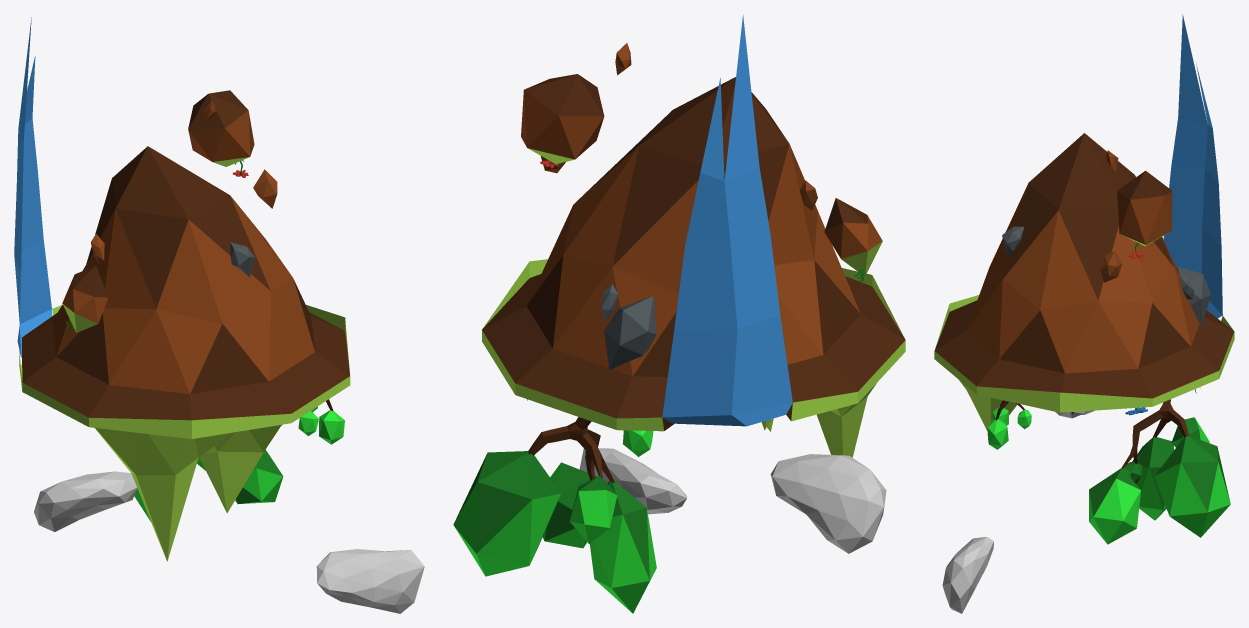
Rendered from island5.obj.
3 views of the same model, side by side, from view 1: azimuth 30°, elevation 25°; view 2: azimuth 150°, elevation 25°; view 3: azimuth 270°, elevation 25° (orthographic). The views are drawn at different scales.
Parts seen in each view (by area): view 1: Icosphere, Icosphere.016, Icosphere.013, Icosphere.003, Icosphere.030, Icosphere.057, Icosphere.012, Icosphere.017, Icosphere.056, Icosphere.001, Icosphere.004, Icosphere.014 (+7 smaller); view 2: Icosphere.030, Icosphere, Icosphere.016, Icosphere.013, Icosphere.056, Icosphere.012, Icosphere.025, Icosphere.017, Icosphere.022, Icosphere.023, Icosphere.004, Icosphere.057 (+10 smaller); view 3: Icosphere, Icosphere.016, Icosphere.030, Icosphere.013, Icosphere.012, Icosphere.017, Icosphere.022, Icosphere.057, Icosphere.004, Icosphere.020, Icosphere.025, Cube (+9 smaller).
Boxes of the visible parts, box(x1,y1,x2,y2) form: Icosphere: box(52, 196, 314, 394); Icosphere.016: box(22, 312, 349, 420); Icosphere.013: box(86, 146, 270, 308); Icosphere.003: box(95, 428, 232, 561); Icosphere.030: box(14, 17, 52, 357); Icosphere.057: box(316, 549, 424, 613); Icosphere.012: box(19, 305, 350, 438); Icosphere.017: box(56, 279, 314, 393); Icosphere.056: box(34, 471, 137, 531); Icosphere.001: box(199, 424, 282, 513); Icosphere.004: box(188, 110, 254, 161); Icosphere.014: box(188, 90, 248, 129); Icosphere.030: box(662, 15, 792, 426); Icosphere: box(527, 144, 860, 375); Icosphere.016: box(482, 274, 905, 418); Icosphere.013: box(577, 77, 789, 265); Icosphere.056: box(770, 454, 886, 553); Icosphere.012: box(482, 259, 905, 431); Icosphere.025: box(454, 451, 560, 557); Icosphere.017: box(526, 255, 860, 376); Icosphere.022: box(453, 483, 560, 576); Icosphere.023: box(590, 510, 656, 613); Icosphere.004: box(521, 90, 603, 159); Icosphere.057: box(579, 448, 686, 514); Icosphere: box(966, 184, 1199, 373); Icosphere.016: box(934, 300, 1234, 398); Icosphere.030: box(1163, 14, 1222, 318); Icosphere.013: box(1003, 133, 1174, 300); Icosphere.012: box(934, 295, 1234, 412); Icosphere.017: box(999, 303, 1190, 373); Icosphere.022: box(1154, 462, 1230, 537); Icosphere.057: box(942, 537, 993, 613); Icosphere.004: box(1117, 191, 1172, 244); Icosphere.020: box(1089, 478, 1140, 544); Icosphere.025: box(1155, 436, 1229, 511); Cube: box(1121, 399, 1188, 468).
Bounding box in the file's own units: 418 × 710 × 391.
